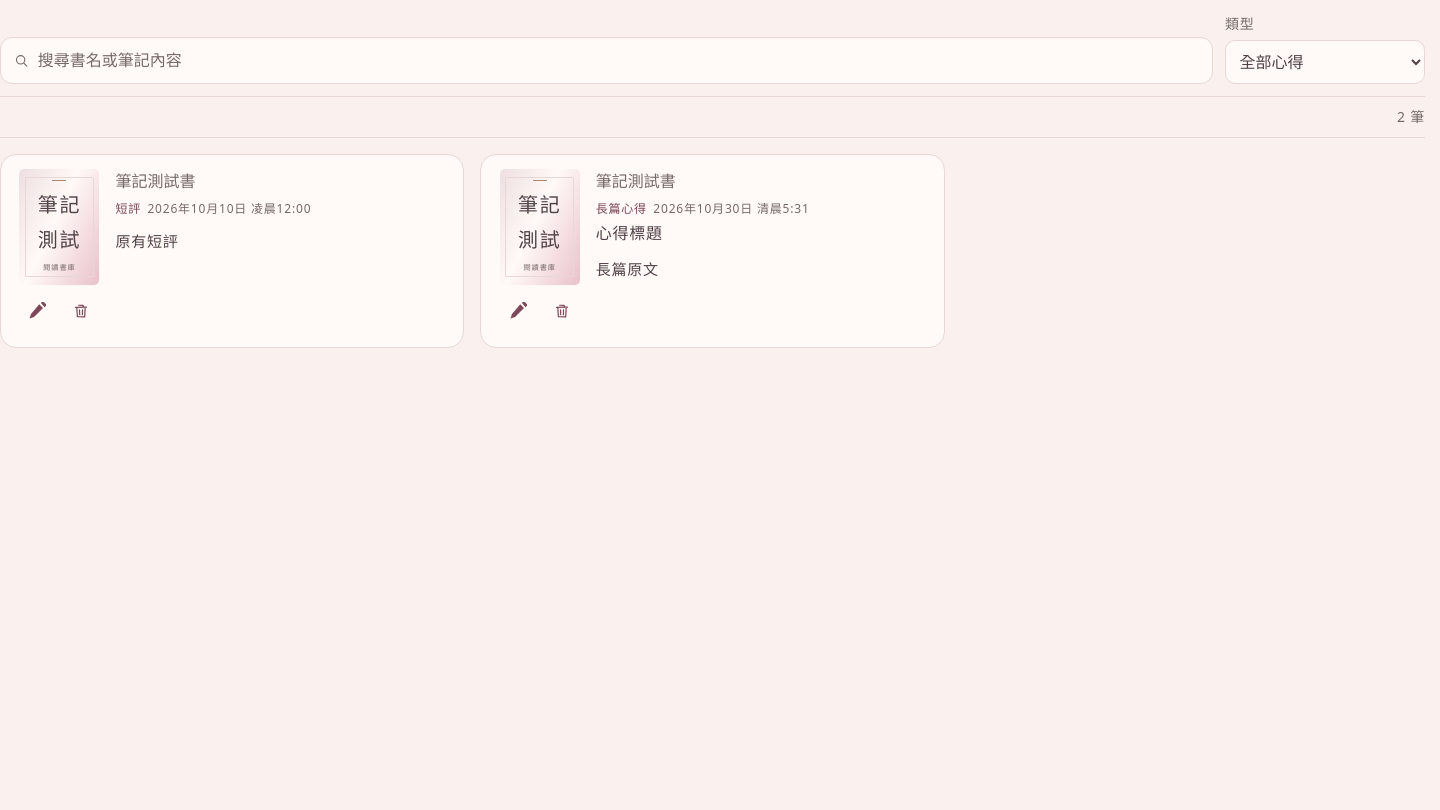
it: requires explicit deletion, retains errors for retry, and never deletes the book
Expected: the text "原有短評" is shown, left=115, top=231, right=179, bottom=251
Click the 1st button named "刪除".
click(81, 311)  # box left=59, top=289, right=103, bottom=333
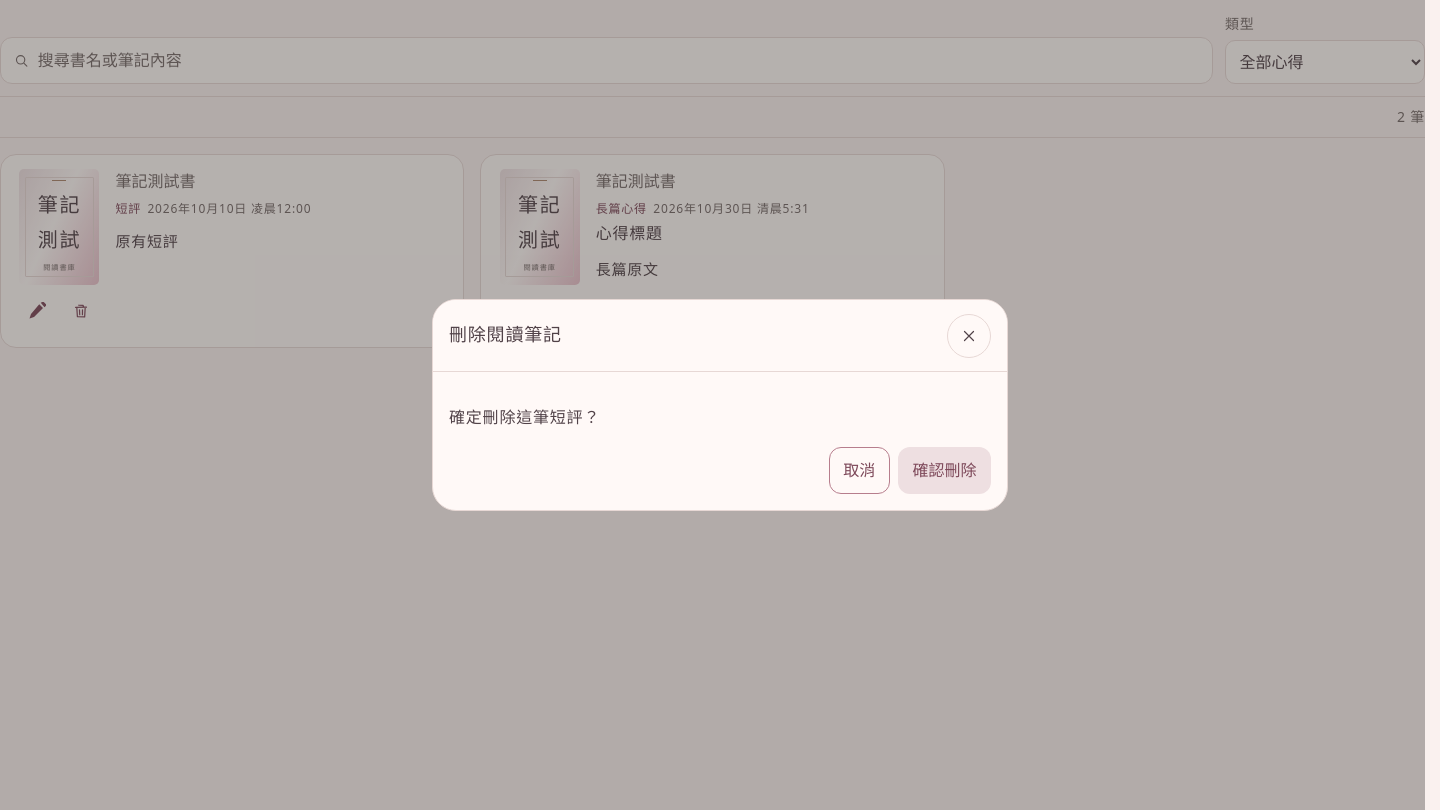
Click the button "取消".
click(859, 471)  # box left=829, top=447, right=890, bottom=494
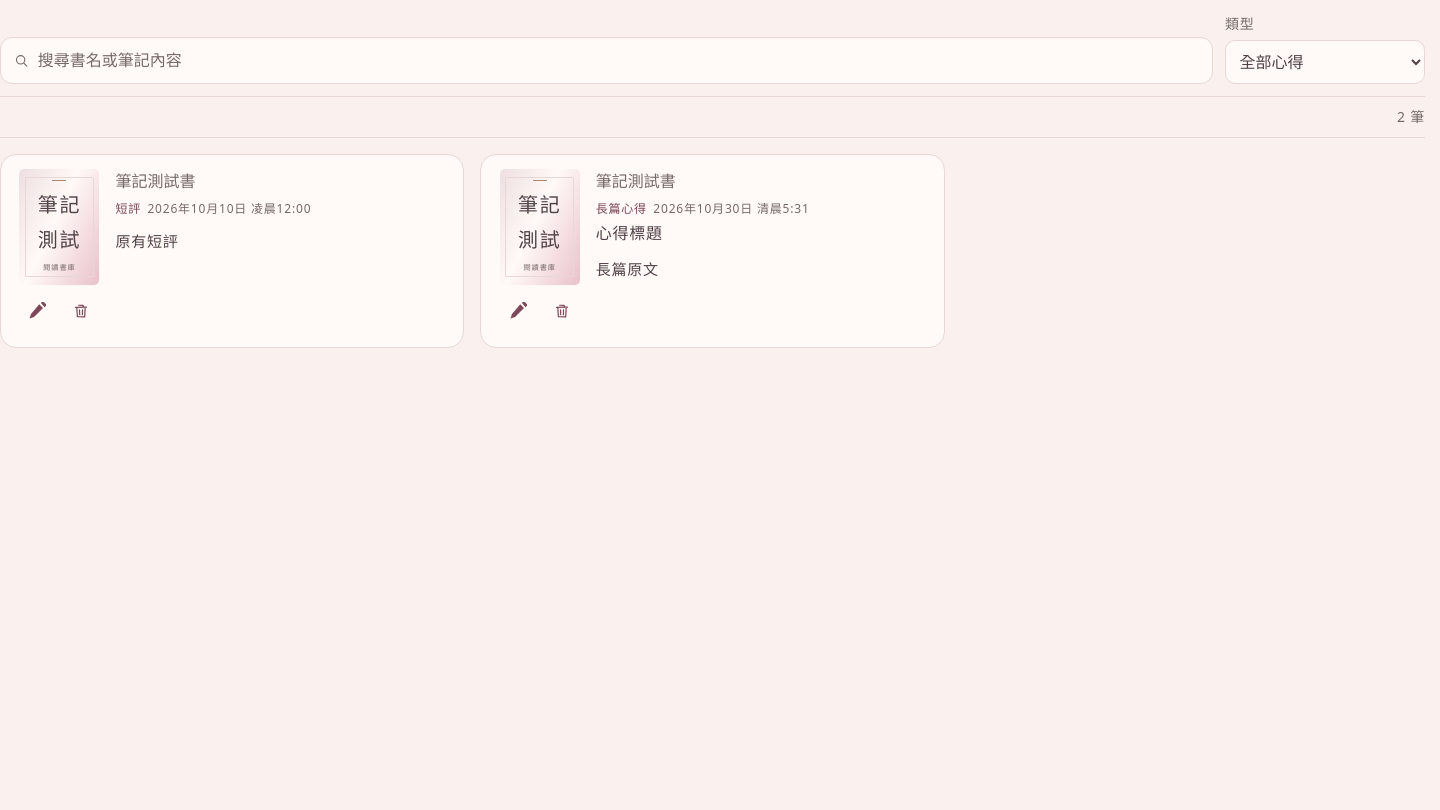
Expected: the dialog is gone
Click the 1st button named "刪除".
click(81, 311)  # box left=59, top=289, right=103, bottom=333
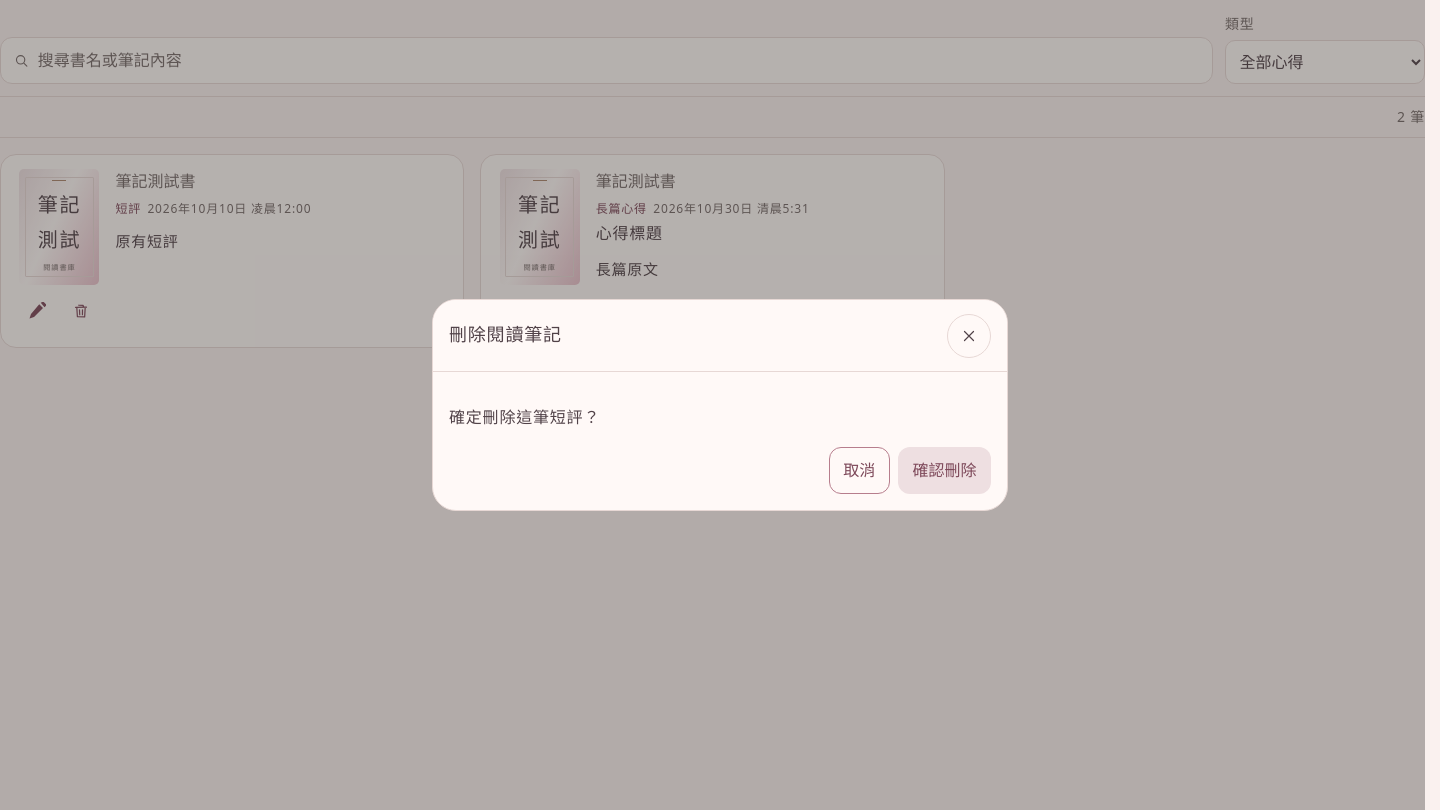
Click the button "確認刪除".
click(944, 471)  # box left=898, top=447, right=991, bottom=494
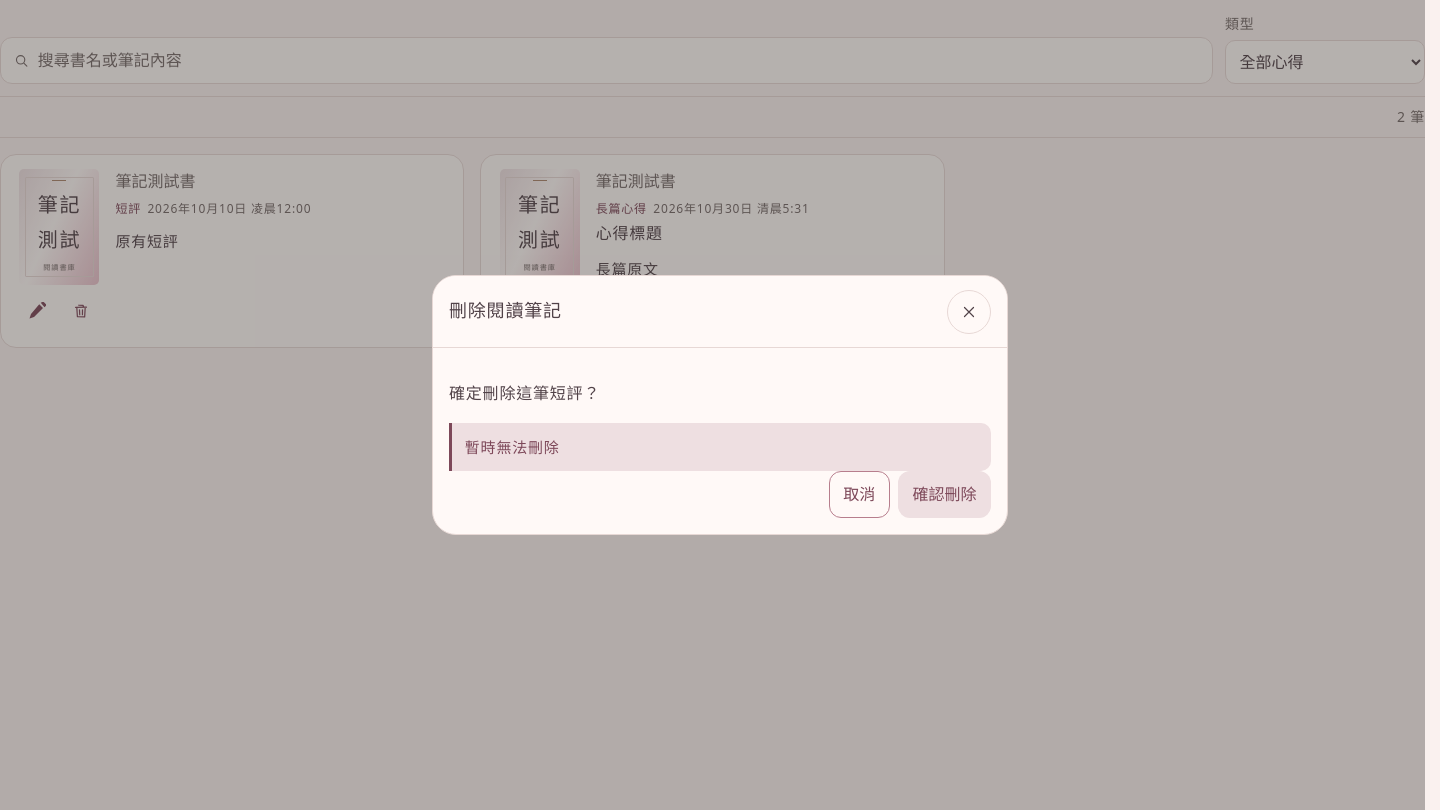
Expected: the message reads "暫時無法刪除", left=465, top=436, right=560, bottom=456
Click the button "確認刪除".
click(944, 495)  # box left=898, top=471, right=991, bottom=518
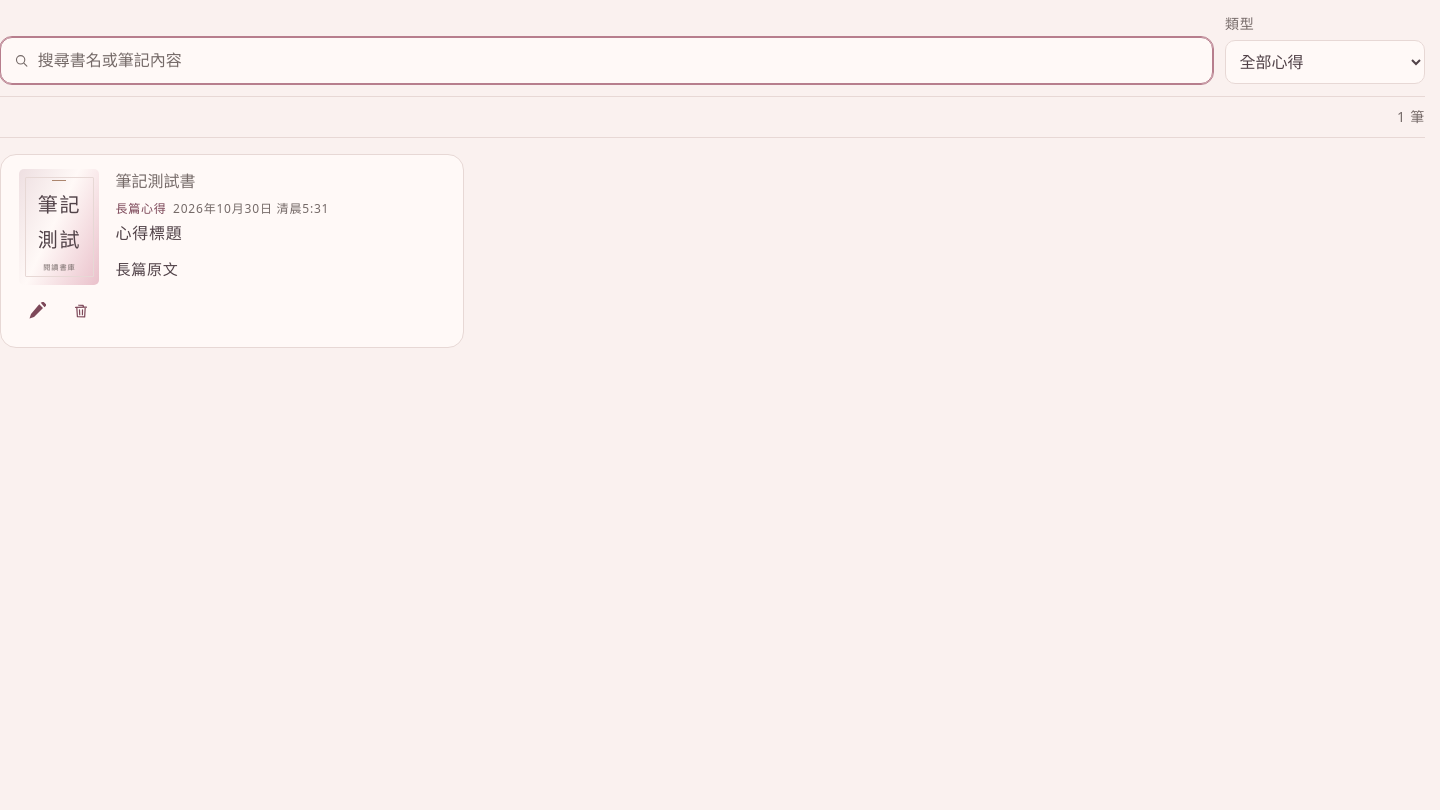
Expected: the dialog is gone
